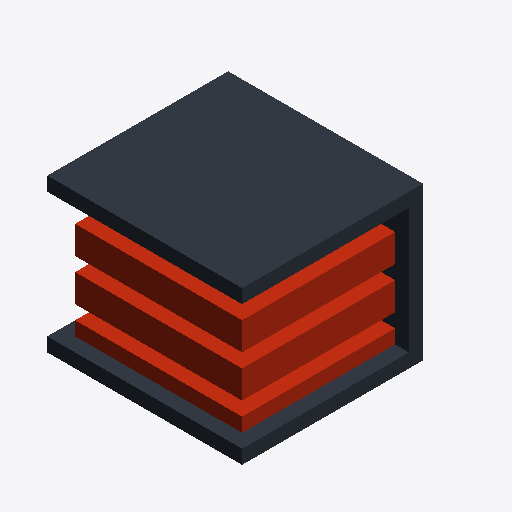
A Minecraft block model of 15 cuboids, rendered isometrically (azimuth 45°, elevation 35.3°) with the resource pack's own textures.
Parts seen in each view (by area): element 2, element 1, element 10, element 7, element 13, element 12, element 9, element 3.
Boxes of the visible parts, box(x1,y1,x2,y2) form: element 2: box(47, 71, 422, 303); element 1: box(47, 321, 422, 464); element 10: box(75, 264, 394, 383); element 7: box(75, 313, 394, 431); element 13: box(75, 216, 394, 335); element 12: box(75, 240, 394, 351); element 9: box(75, 288, 394, 399); element 3: box(382, 200, 422, 351).
Size of the model in its own units: 16 by 11 by 14.